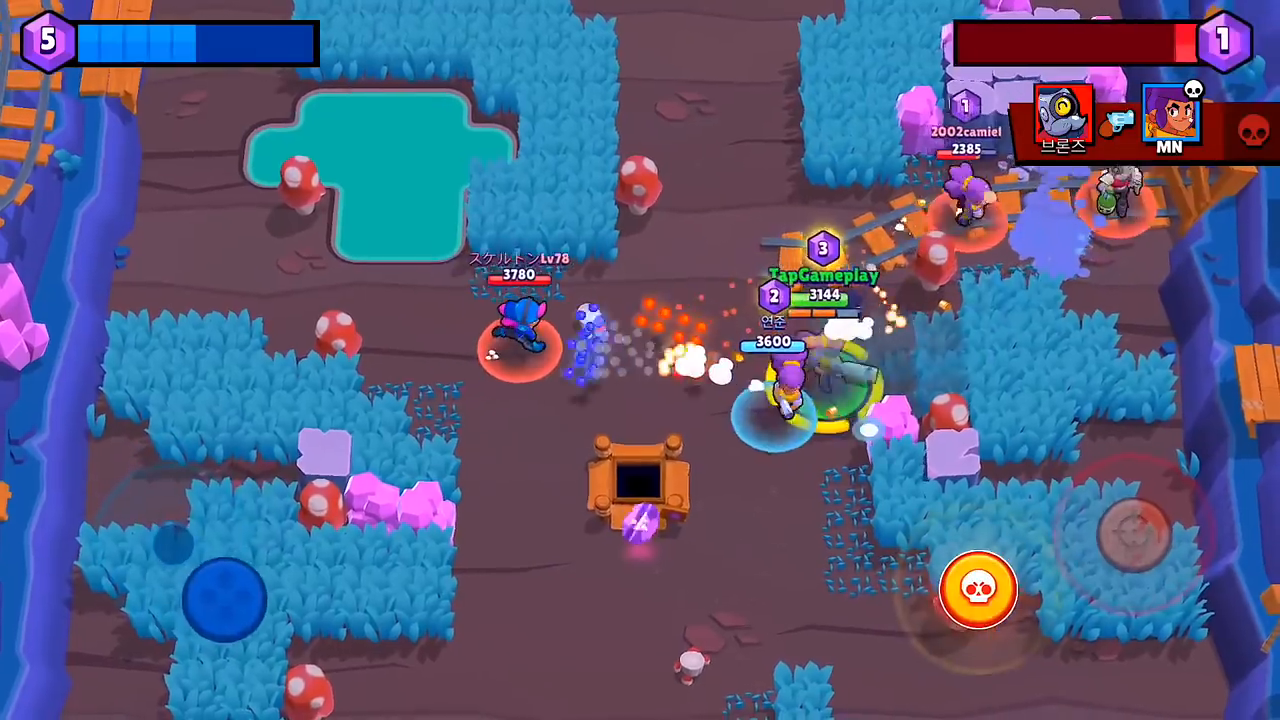move_stick: (179, 549, 269, 645)
red: (455, 262, 573, 392), (931, 139, 999, 243), (1085, 148, 1166, 234)
